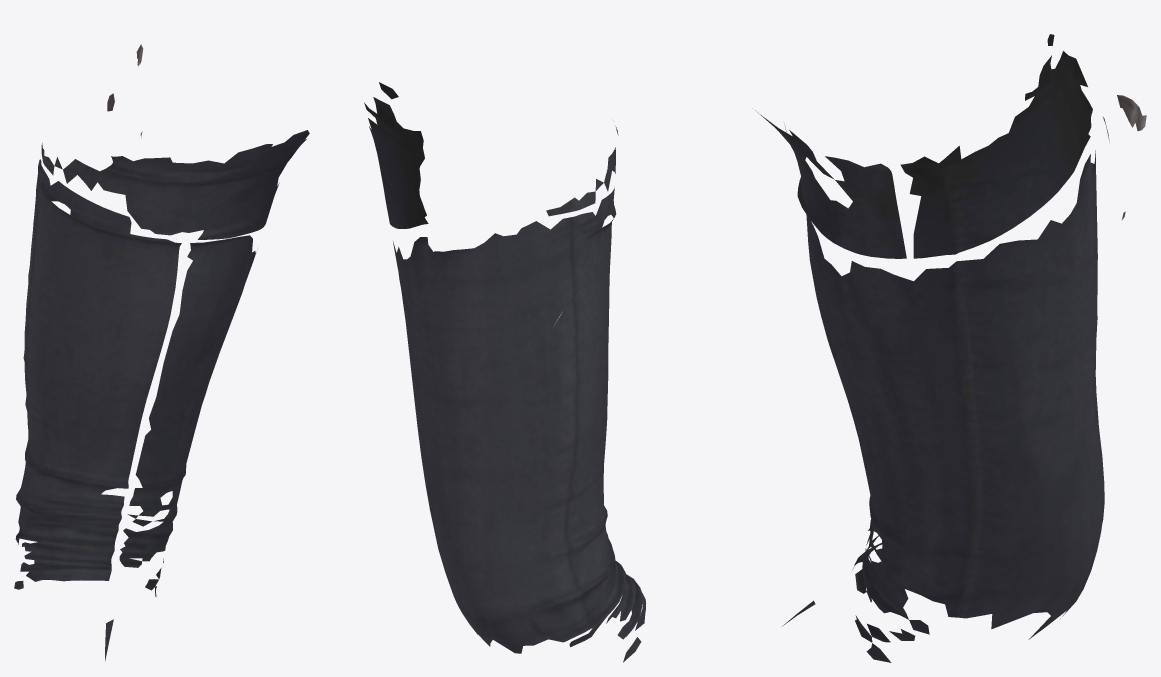
Rendered from chicaunam_musloizq.glb.
The picture shows the model from 3 angles, left to right: view 1: azimuth 30°, elevation 25°; view 2: azimuth 150°, elevation 25°; view 3: azimuth 270°, elevation 25°; orthographic projection. The views are drawn at different scales.
Visible parts, largest first — view 1: Object_5.004; view 2: Object_5.004; view 3: Object_5.004.
Part boxes in pixels (left/top/right/bottom): Object_5.004: left=14, top=44, right=309, bottom=661; Object_5.004: left=364, top=82, right=645, bottom=662; Object_5.004: left=755, top=34, right=1146, bottom=662.
Size of the model in its own units: 0.9417 by 1.88 by 1.05.
1 material, 1 textured.
